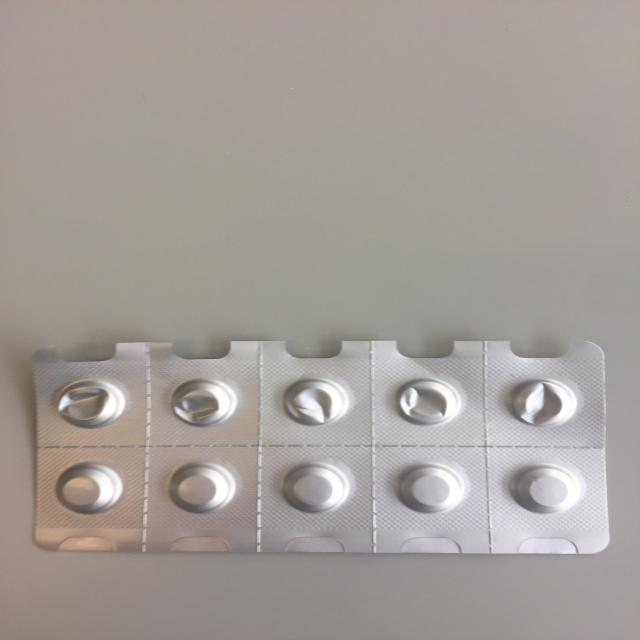Empty: (495, 374, 582, 434), (46, 374, 134, 432), (160, 372, 248, 430), (384, 373, 467, 432), (273, 374, 354, 428)
Pill: (49, 457, 130, 519), (500, 460, 590, 514), (274, 458, 357, 516), (391, 462, 467, 518), (164, 461, 240, 516)
